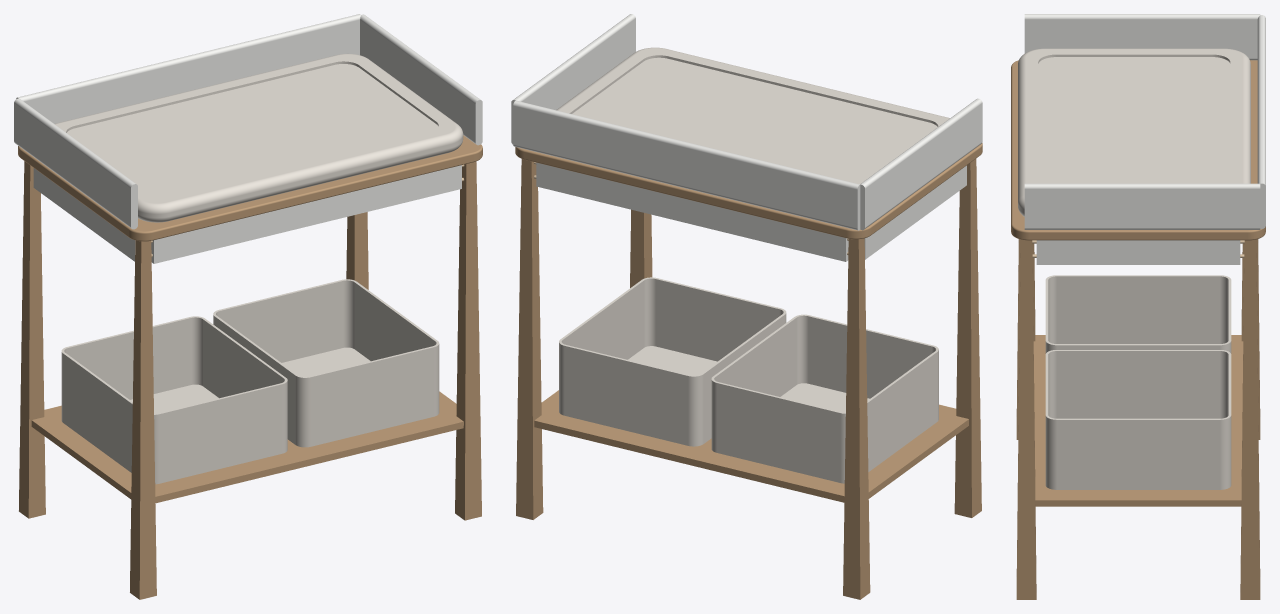
3 views of the same model, side by side, from view 1: azimuth 30°, elevation 25°; view 2: azimuth 150°, elevation 25°; view 3: azimuth 270°, elevation 25° (orthographic).
Parts seen in each view (by area): view 1: fabric.3, fabric.1, fabric.2, body.5, wood.6, wood.5, wood.4, body.2, wood.3, wood.1, body.7, body.6 (+2 smaller); view 2: fabric.3, fabric.1, fabric.2, body.5, wood.6, wood.3, wood.2, body.1, wood.5, body.7, wood.1, body.6 (+2 smaller); view 3: fabric.3, fabric.2, fabric.1, body.6, body.7, wood.6, wood.2, wood.4, body.3, wood.1, body.5, wood.3 (+1 smaller).
Boxes of the visible parts, x1,y1,x2,y2 form: fabric.3: [55, 53, 463, 222]; fabric.1: [61, 316, 287, 484]; fabric.2: [213, 279, 439, 447]; body.5: [16, 14, 360, 123]; wood.6: [31, 391, 463, 503]; wood.5: [130, 240, 156, 599]; wood.4: [455, 161, 481, 520]; body.2: [151, 165, 461, 263]; wood.3: [19, 161, 45, 518]; wood.1: [18, 135, 482, 241]; body.7: [14, 98, 137, 229]; body.6: [360, 14, 482, 145]; fabric.3: [556, 47, 949, 184]; fabric.1: [711, 314, 938, 483]; fabric.2: [559, 277, 786, 446]; body.5: [513, 100, 860, 230]; wood.6: [534, 390, 968, 502]; wood.3: [843, 238, 870, 599]; wood.2: [516, 159, 543, 519]; body.1: [536, 162, 848, 261]; wood.5: [954, 159, 981, 517]; body.7: [860, 98, 982, 230]; wood.1: [515, 143, 982, 239]; body.6: [511, 14, 635, 144]; fabric.3: [1018, 48, 1250, 216]; fabric.2: [1045, 350, 1231, 489]; fabric.1: [1045, 275, 1231, 353]; body.6: [1024, 183, 1260, 229]; body.7: [1024, 14, 1260, 60]; wood.6: [1033, 335, 1243, 506]; wood.2: [1240, 239, 1260, 599]; wood.4: [1016, 239, 1036, 599]; body.3: [1036, 240, 1240, 264]; wood.1: [1011, 60, 1265, 240]; body.5: [1257, 15, 1265, 228]; wood.3: [1241, 239, 1260, 439].
Bounding box in the file's own units: 0.9 × 1.01 × 0.56.
